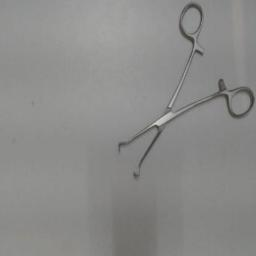Babcock Tissue Forceps: (116, 0, 254, 180)
